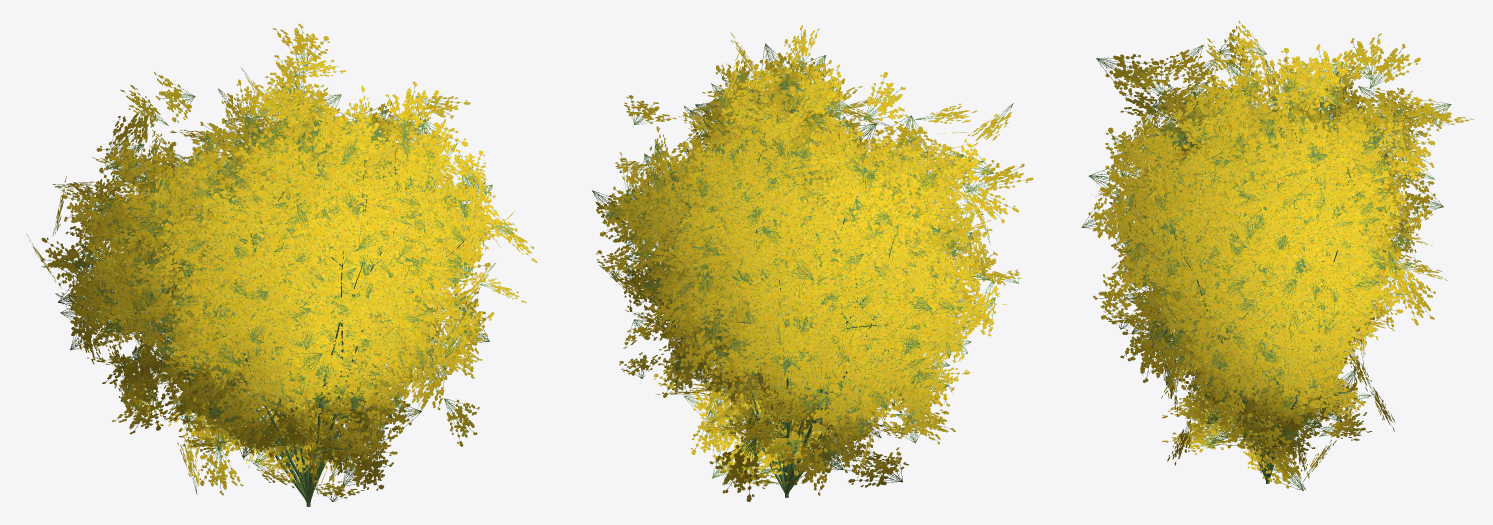
The model's file is BR2_Broom_InFlower_2m.glb.
3 renders of one model, left to right at view 1: azimuth 30°, elevation 25°; view 2: azimuth 150°, elevation 25°; view 3: azimuth 270°, elevation 25°, orthographic. The views are drawn at different scales.
Visible parts, largest first — view 1: BR2_leaves, BR2_wood; view 2: BR2_leaves, BR2_wood; view 3: BR2_leaves, BR2_wood.
Part boxes in pixels (box(x1,y1,x2,y2)): BR2_leaves: box(27, 23, 537, 501); BR2_wood: box(100, 120, 465, 506); BR2_leaves: box(592, 25, 1033, 501); BR2_wood: box(652, 90, 950, 497); BR2_leaves: box(1081, 20, 1473, 490); BR2_wood: box(1135, 115, 1387, 483).
Bounding box in the file's own units: 1.95 × 2.04 × 1.59.
2 materials, 2 textured.
